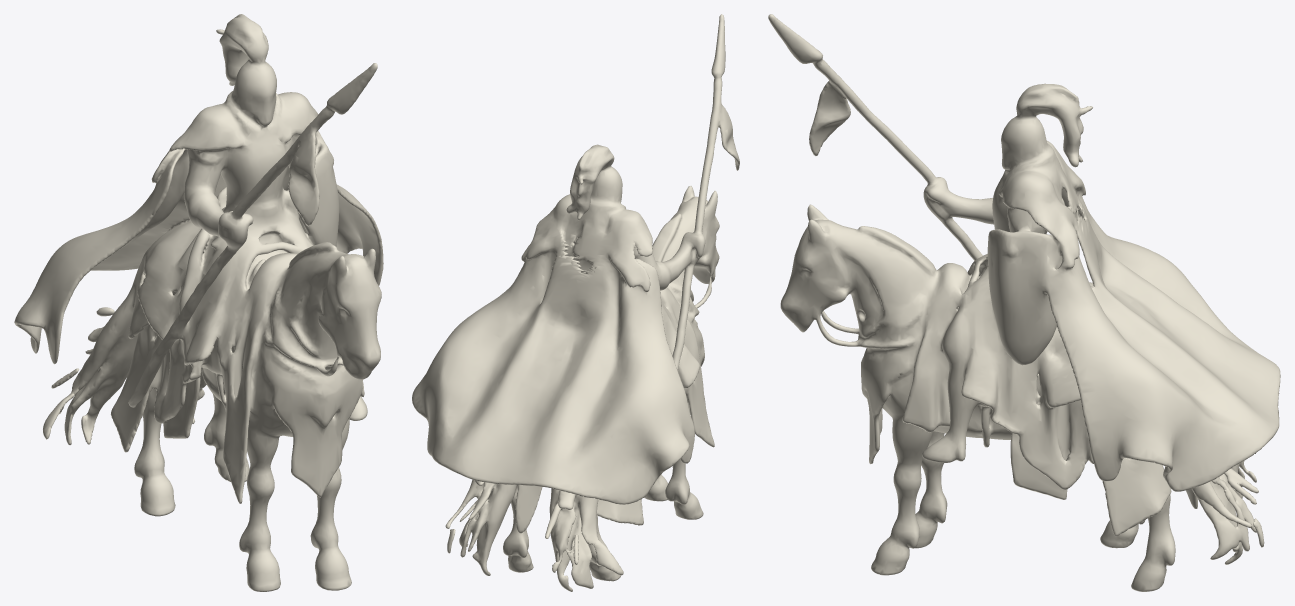
Rendered from ru-kon.glb.
3 renders of one model, left to right at view 1: azimuth 30°, elevation 25°; view 2: azimuth 150°, elevation 25°; view 3: azimuth 270°, elevation 25°, orthographic. The views are drawn at different scales.
Parts seen in each view (by area): view 1: world; view 2: world; view 3: world.
Boxes of the visible parts, left/top/right/bottom form: world: left=14, top=14, right=383, bottom=591; world: left=412, top=14, right=739, bottom=591; world: left=768, top=14, right=1280, bottom=591.
Bounding box in the file's own units: 1.22 × 1.94 × 1.65.
